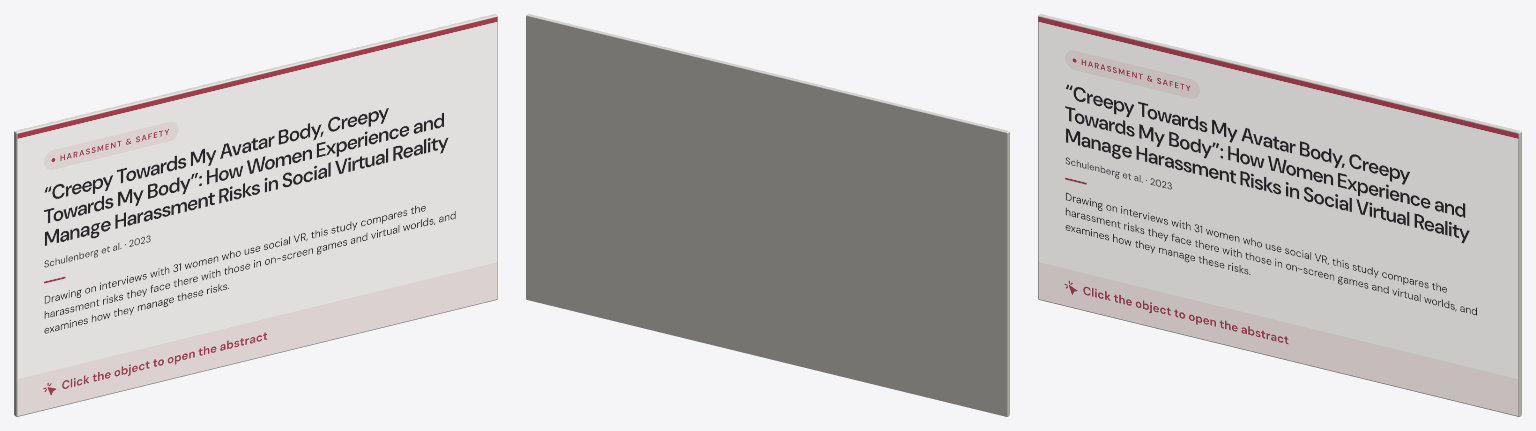
File: plaque-schulenberg-2023.glb
3 views of the same model, side by side, from view 1: azimuth 30°, elevation 25°; view 2: azimuth 150°, elevation 25°; view 3: azimuth 330°, elevation 25° (orthographic).
Visible parts, largest first — view 1: plaque-schulenberg-2023; view 2: plaque-schulenberg-2023; view 3: plaque-schulenberg-2023.
Boxes of the visible parts, left/top/right/bottom form: plaque-schulenberg-2023: left=14, top=14, right=497, bottom=416; plaque-schulenberg-2023: left=526, top=14, right=1009, bottom=416; plaque-schulenberg-2023: left=1038, top=14, right=1521, bottom=416.
Bounding box in the file's own units: 0.643 × 0.363 × 0.006.
Materials: 2 (1 with a texture image).
